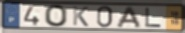0: (96, 5, 114, 29)
4: (23, 4, 42, 27)
A: (115, 6, 143, 29)
K: (72, 5, 90, 27)
L: (144, 7, 163, 28)
O: (43, 4, 69, 28)
